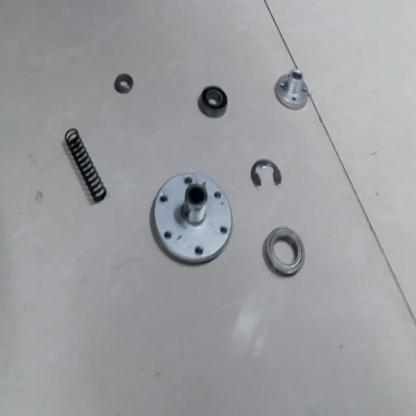FOD: (150, 170, 232, 266), (64, 119, 110, 205), (260, 219, 309, 284), (274, 62, 310, 115), (197, 79, 231, 119), (250, 155, 282, 195), (113, 70, 136, 96)
